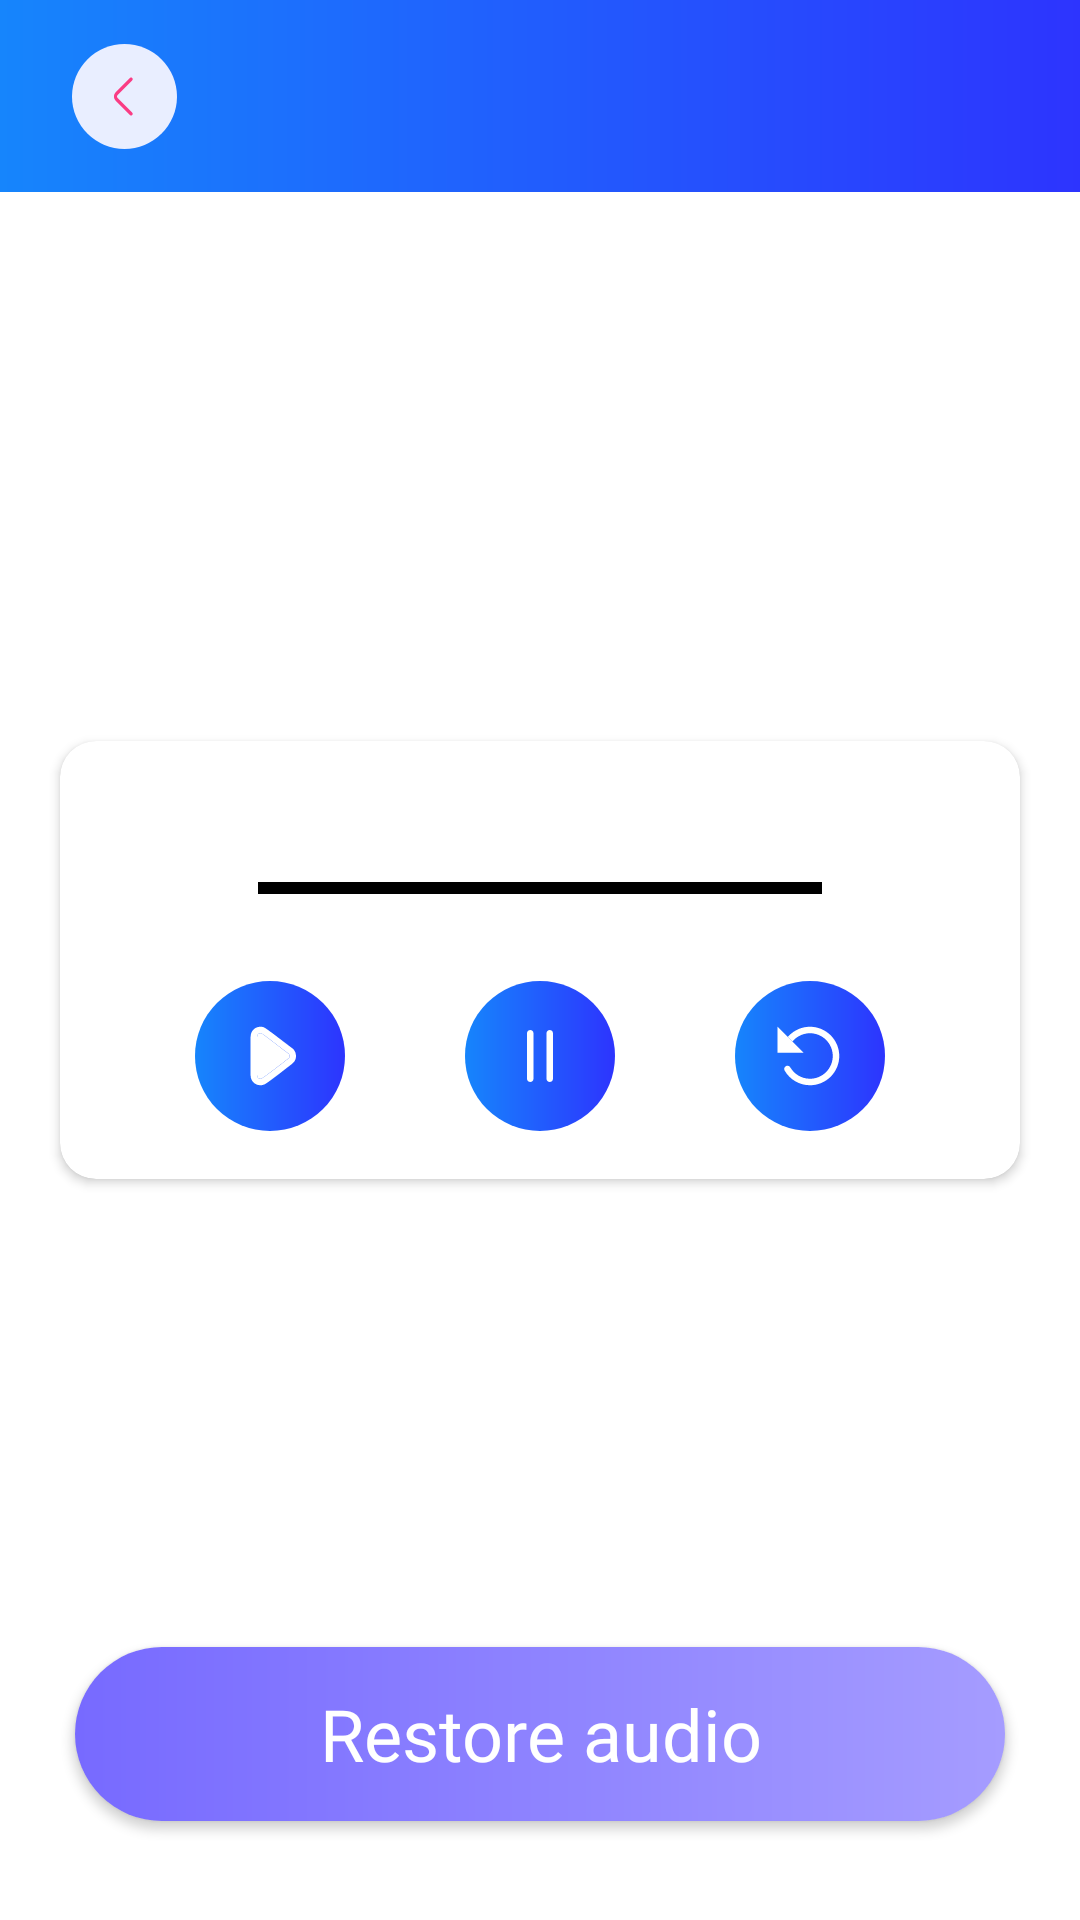

Where icons sit on this 1080px x 1920px app screen, as Rect(x1, y1, x2, y2):
back: Rect(72, 44, 177, 149)
pause: Rect(465, 981, 615, 1131)
play: Rect(195, 981, 345, 1131)
